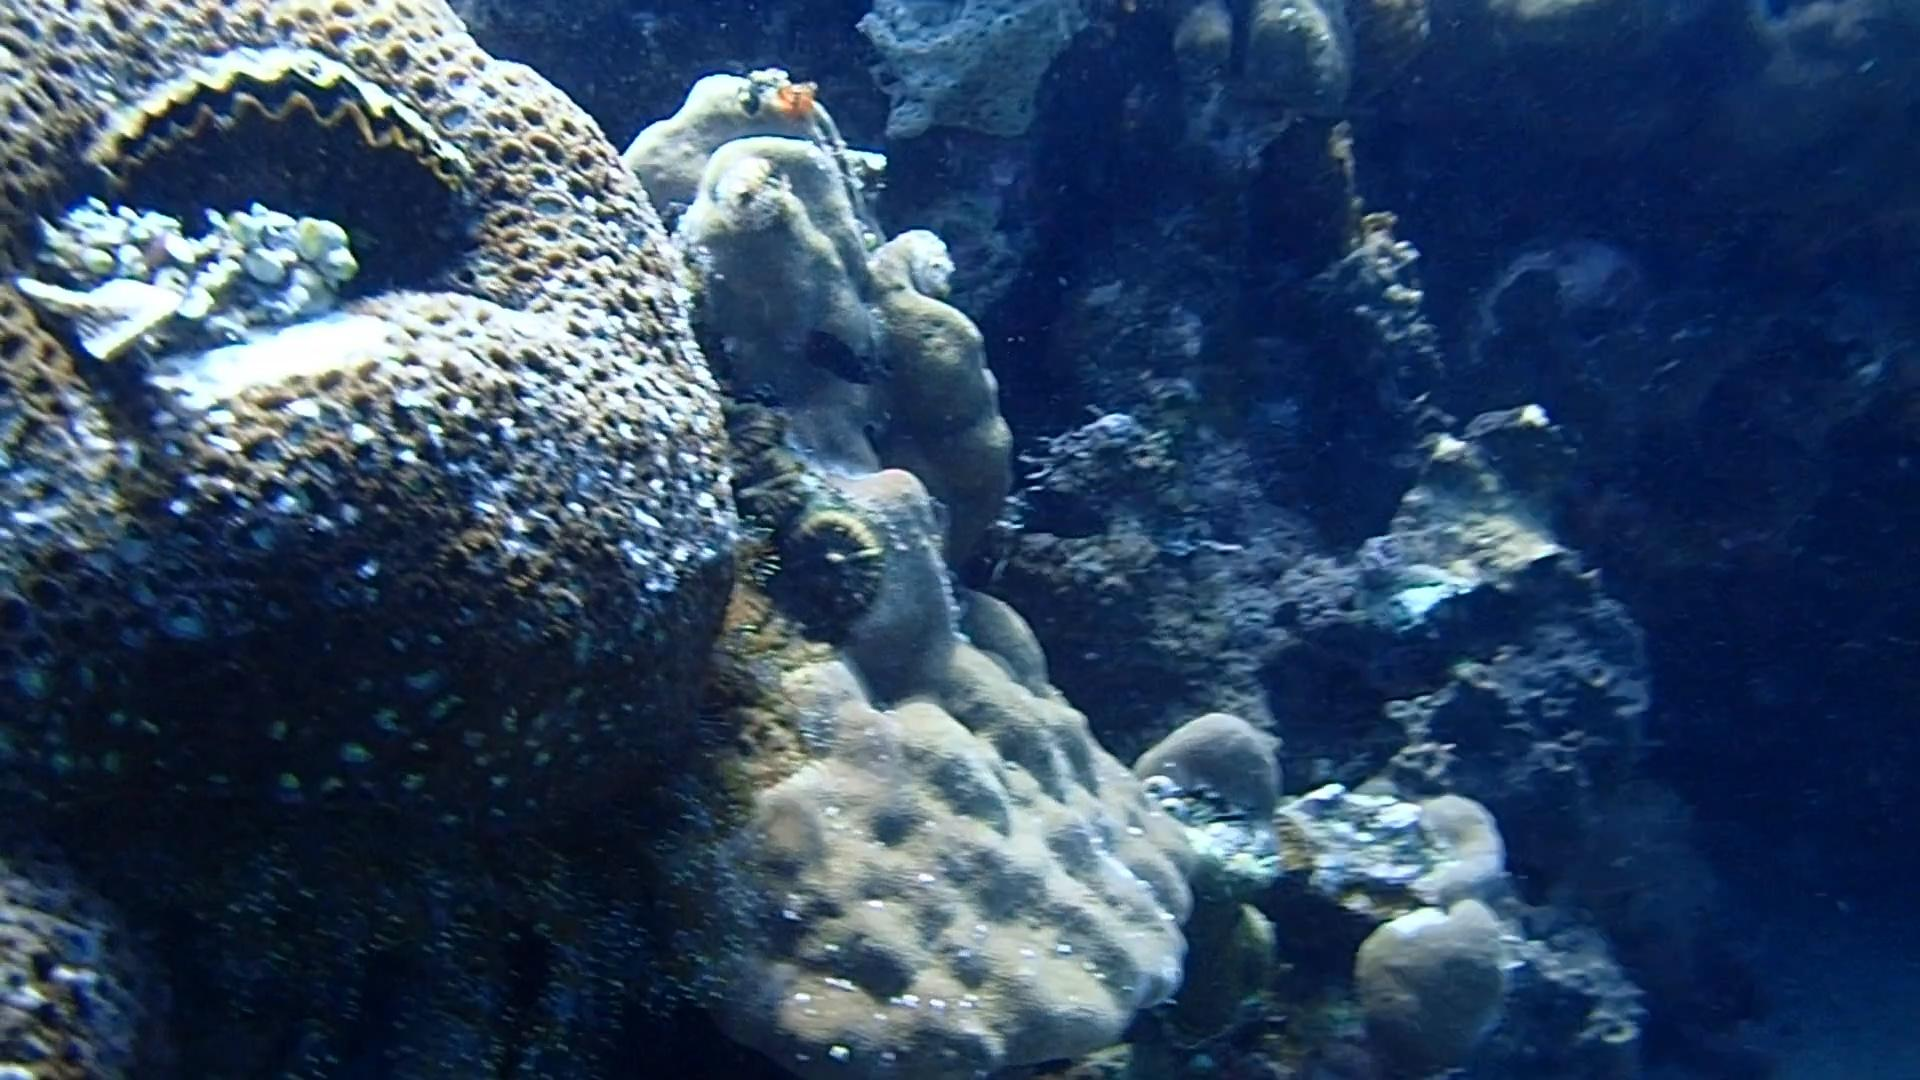Dark Fish: (1004, 475, 1120, 555), (789, 320, 884, 392)
